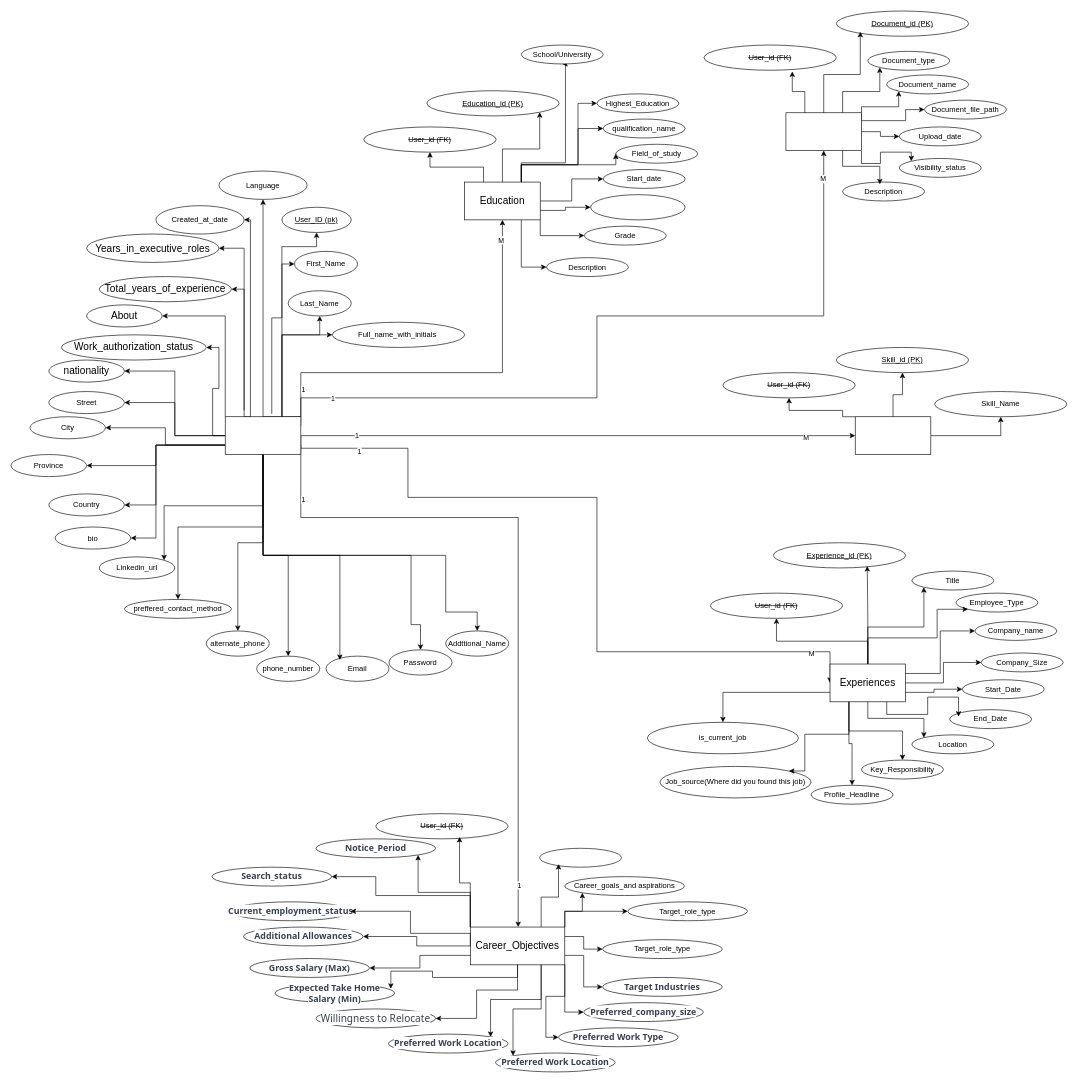
Image size: 1078x1083. Some labels were removed from this diagram. The centre of each missing label's shape, as x and y in pixels:
"Documents" belongs at [823,131].
"End_date(Graduation date)" belongs at [637,207].
"objective_id (PK)" belongs at [580,857].
"Skills" belongs at [893,435].
"User_Profile" belongs at [263,435].
